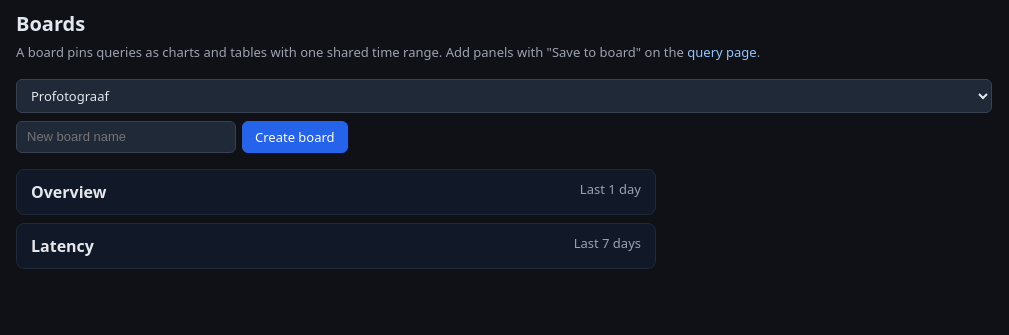
Test: BoardsPage › shows a create error
The width and height of the screenshot is (1009, 335).
Check: the link "Overview Last 1 day" is shown, box [16, 168, 656, 214]
In the field labelled "New board name": (126, 136) [16, 120, 236, 152], type "x"
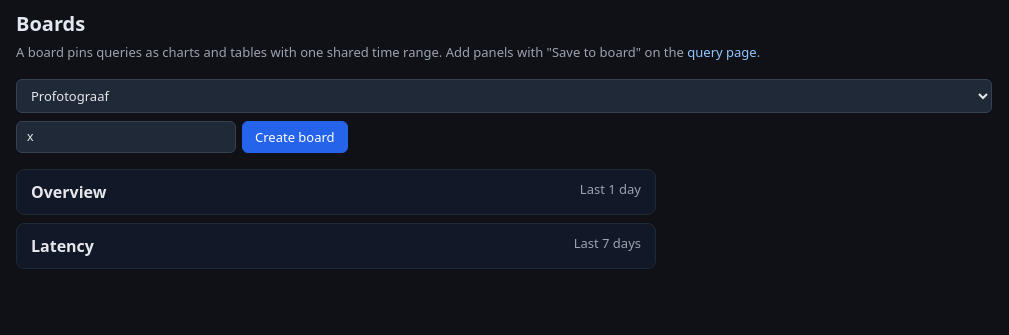
Click the button "Create board": (295, 136) [242, 120, 348, 152]
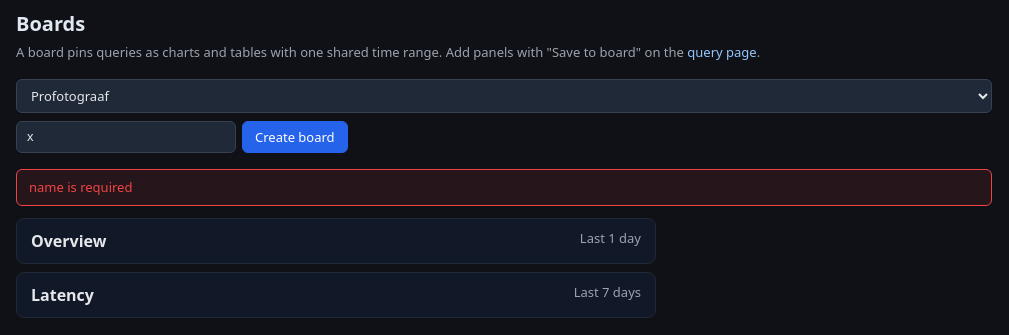
Check: the message reads "name is required", box [29, 178, 132, 196]
